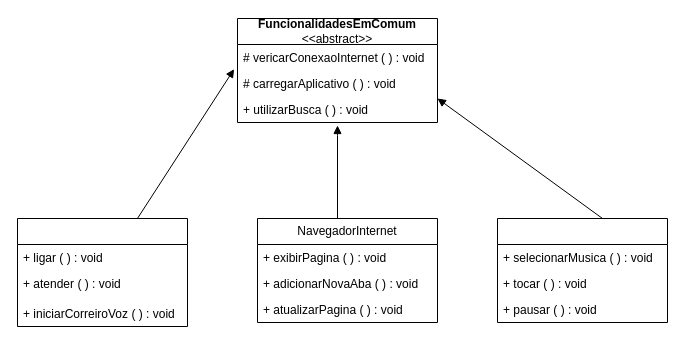
This 685x347 diagram has some shape labels left out. Each missing label, with the box of its shape:
ChamadasTelefonicas: (16, 218, 188, 326)
ReprodutorMusical: (496, 218, 668, 322)
